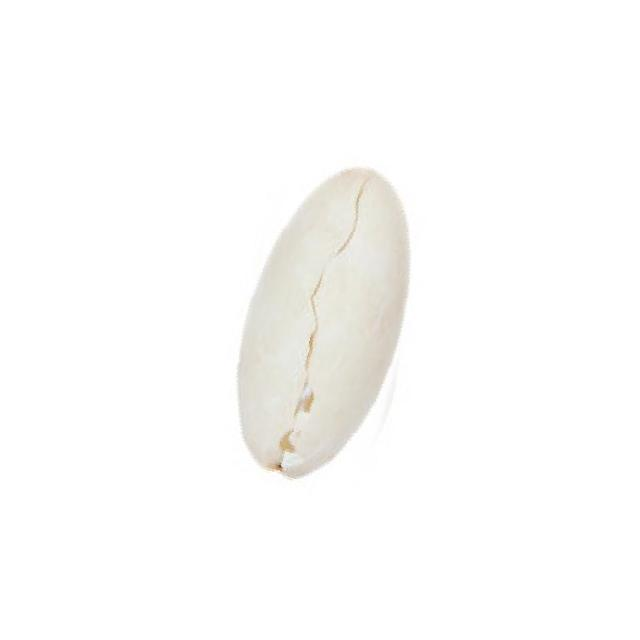biodegradable: (219, 126, 436, 509)
